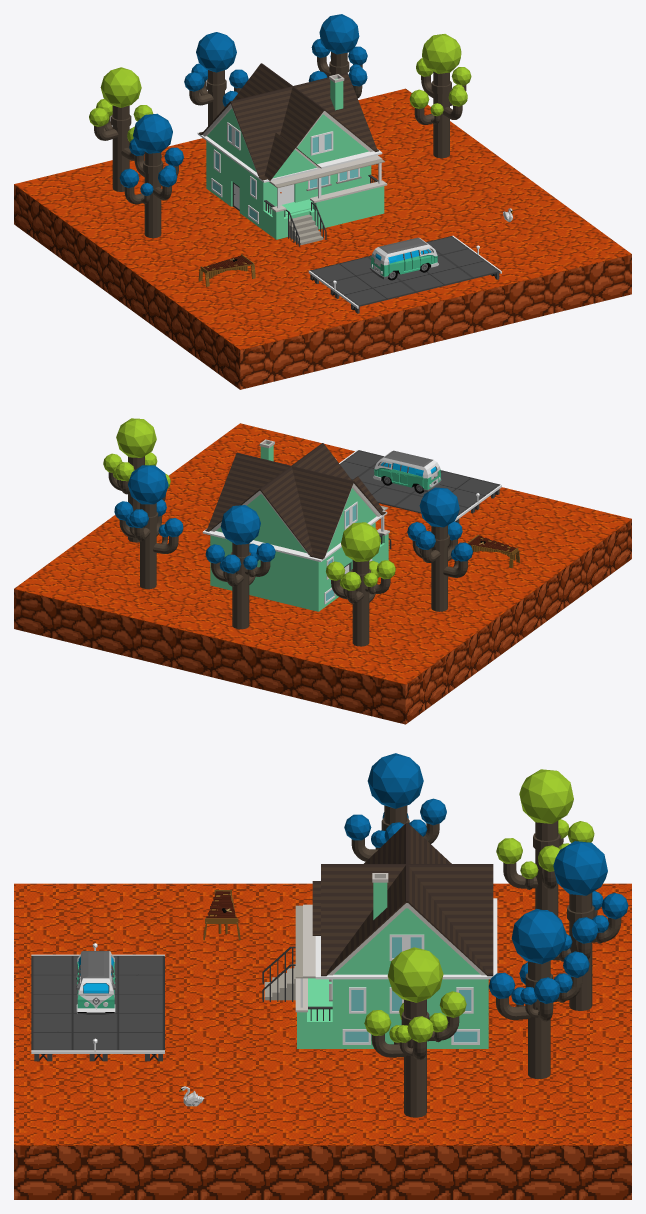
3 renders of one model, top to bottom at view 1: azimuth 30°, elevation 25°; view 2: azimuth 150°, elevation 25°; view 3: azimuth 270°, elevation 25°, orthographic. The views are drawn at different scales.
Visible parts, largest first — view 1: Cube.001, Cube.352, VEHICLES_VAN, OBJRANDOM_MARIMBA; view 2: Cube.001, Cube.352, VEHICLES_VAN, OBJRANDOM_MARIMBA; view 3: Cube.001, Cube.352, VEHICLES_VAN, OBJRANDOM_MARIMBA.
Part boxes in pixels (x1,y1,x2,y2): Cube.001: (14,14,631,389); Cube.352: (197,63,387,246); VEHICLES_VAN: (369,237,438,280); OBJRANDOM_MARIMBA: (198,254,255,286); Cube.001: (14,418,631,724); Cube.352: (202,439,391,611); VEHICLES_VAN: (373,450,442,493); OBJRANDOM_MARIMBA: (467,534,520,568); Cube.001: (14,753,631,1199); Cube.352: (262,823,497,1048); VEHICLES_VAN: (76,951,116,1014); OBJRANDOM_MARIMBA: (203,890,240,940).
Size of the model in its own units: 4000 by 1687 by 4000.
Materials: 38 (5 with a texture image).
